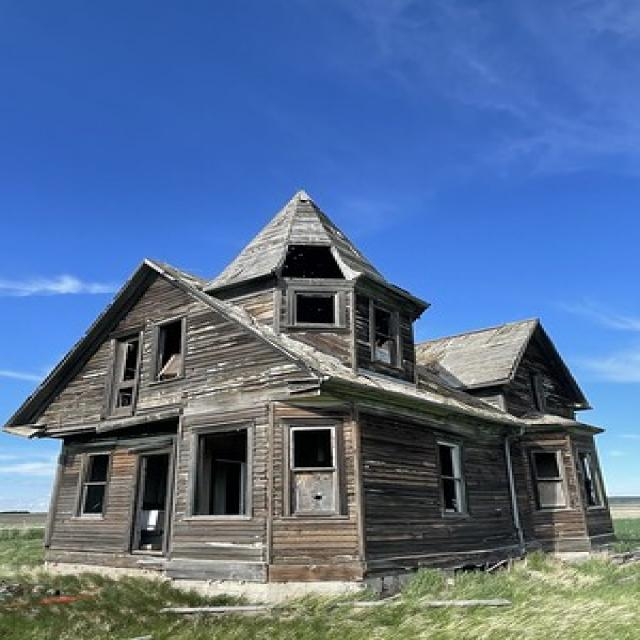Normal_building: (3, 183, 620, 599)
